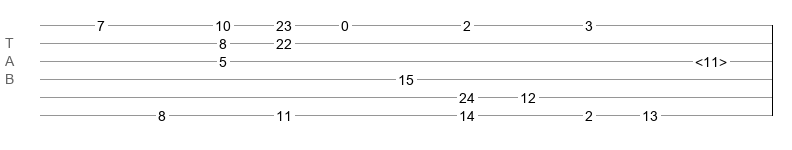0: (341, 18, 349, 28)
10: (215, 18, 231, 28)
11: (276, 108, 292, 118)
12: (520, 90, 536, 100)
13: (642, 108, 658, 118)
14: (459, 108, 475, 118)
15: (398, 72, 414, 82)
2: (463, 18, 471, 28), (585, 108, 593, 118)
22: (276, 36, 292, 46)
23: (276, 18, 292, 28)
24: (459, 90, 475, 100)
3: (585, 18, 593, 28)
5: (219, 54, 227, 64)
7: (97, 18, 105, 28)
8: (158, 108, 166, 118), (219, 36, 227, 46)
harmonic: (695, 54, 727, 64)
